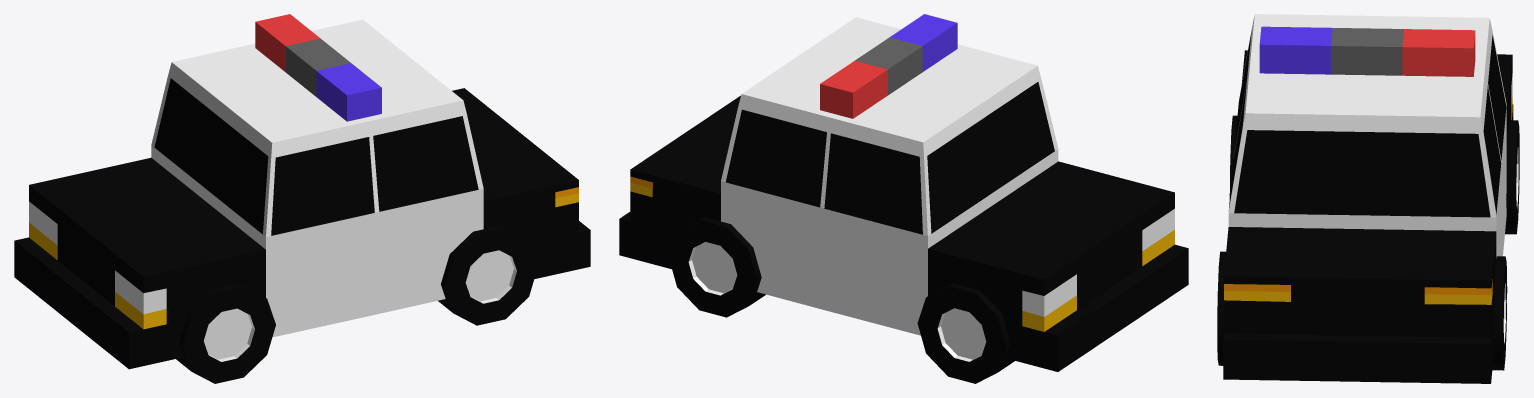
File: car1.glb
The picture shows the model from 3 angles, left to right: view 1: azimuth 30°, elevation 25°; view 2: azimuth 150°, elevation 25°; view 3: azimuth 270°, elevation 25°; orthographic projection. The views are drawn at different scales.
Parts seen in each view (by area): view 1: АВТОМОБИЛЬ ЛЕГКОВОЙ035; view 2: АВТОМОБИЛЬ ЛЕГКОВОЙ035; view 3: АВТОМОБИЛЬ ЛЕГКОВОЙ035.
Part boxes in pixels (<box>): АВТОМОБИЛЬ ЛЕГКОВОЙ035: <box>14,14,590,383</box>; АВТОМОБИЛЬ ЛЕГКОВОЙ035: <box>619,14,1188,383</box>; АВТОМОБИЛЬ ЛЕГКОВОЙ035: <box>1217,14,1519,383</box>.
Size of the model in its own units: 2.68 by 1.36 by 1.41.
